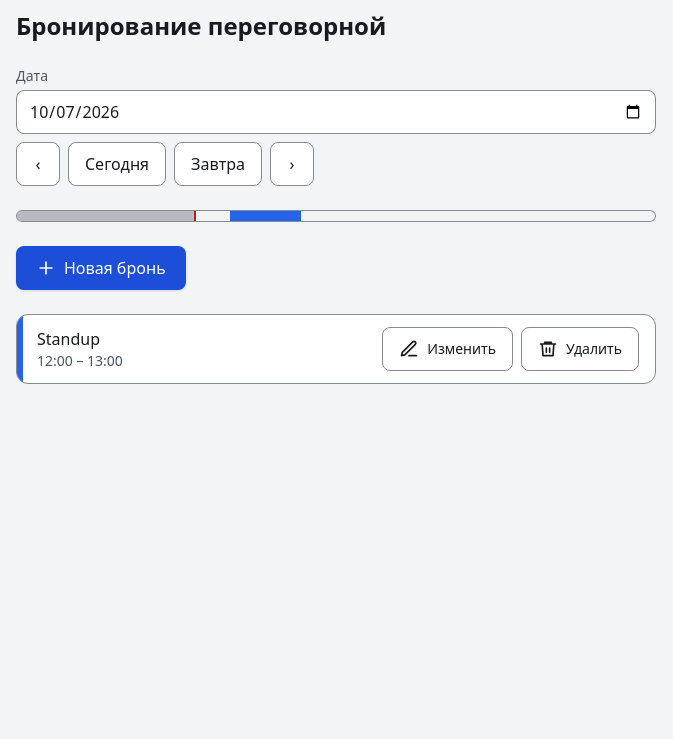
Scenario: design stage 1: form and confirm roles › edit form: role=form and «Сохранить»; no dialog
The image size is (673, 739).
What coordinates should you click on to do the following:
click the button with aria-label "Изменить бронь 12:00–13:00"
I would click on:
 (448, 349)
Its box is [382,327,513,371].
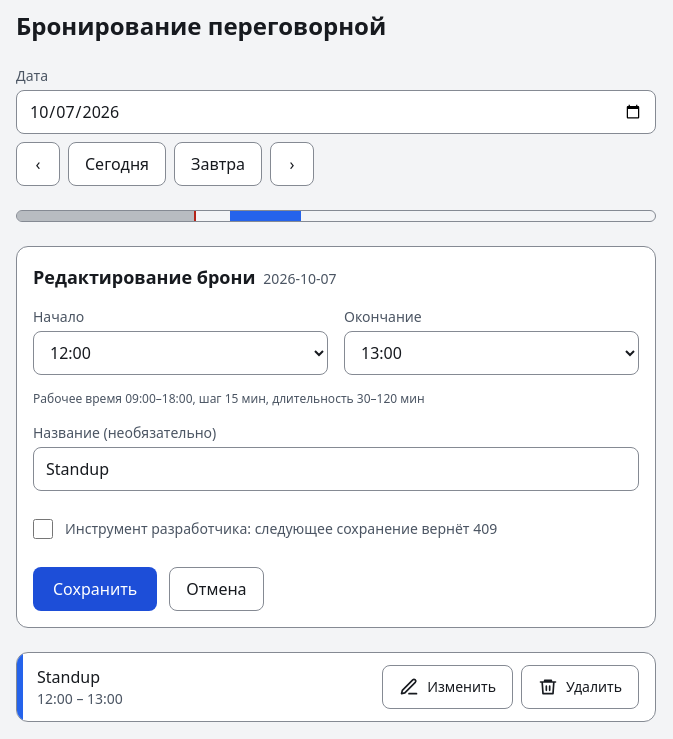
Result: the button "Сохранить" is shown at [33,567,157,611]
